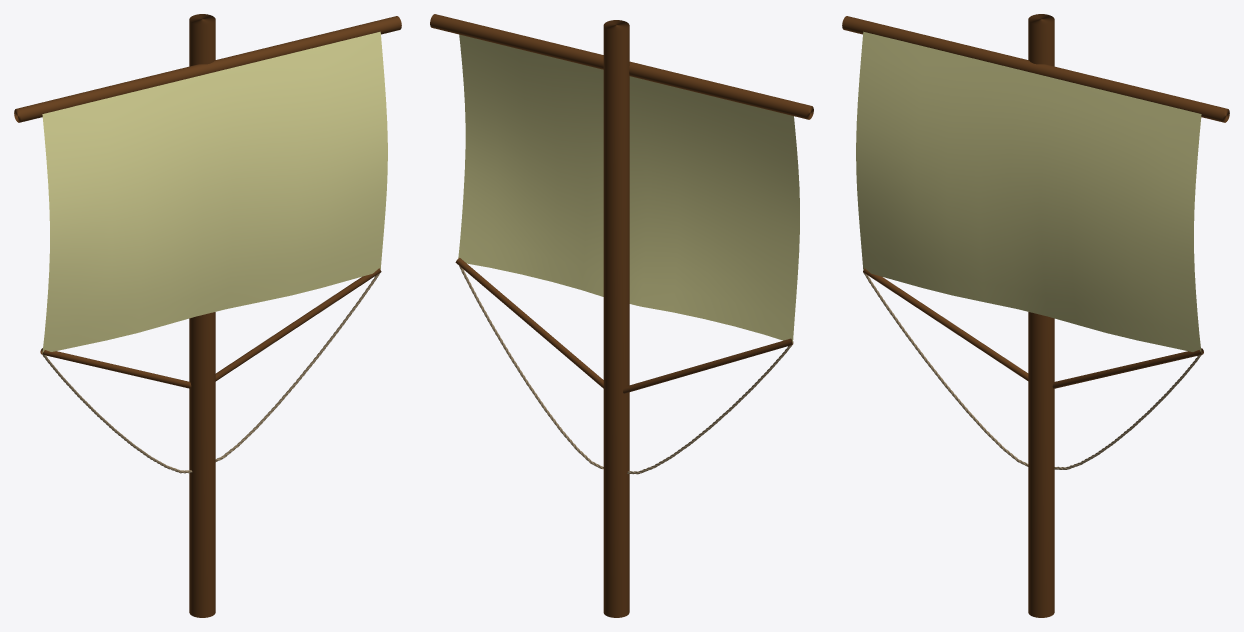
Rendered from Mast and Sail Joined.fbx.
3 views of the same model, side by side, from view 1: azimuth 30°, elevation 25°; view 2: azimuth 150°, elevation 25°; view 3: azimuth 330°, elevation 25° (orthographic).
Parts seen in each view (by area): view 1: Plane, Cylinder, Cylinder.001, Cylinder.002, Cylinder.003, Circle.002, Circle.001; view 2: Plane, Cylinder, Cylinder.001, Cylinder.002, Cylinder.003, Circle.002, Circle.001; view 3: Plane, Cylinder, Cylinder.001, Cylinder.003, Cylinder.002, Circle.001, Circle.002.
Part boxes in pixels (left/top/right/bottom): Plane: left=42, top=31, right=387, bottom=353; Cylinder: left=189, top=14, right=215, bottom=617; Cylinder.001: left=14, top=16, right=401, bottom=122; Cylinder.002: left=215, top=268, right=381, bottom=381; Cylinder.003: left=40, top=348, right=191, bottom=388; Circle.002: left=215, top=272, right=380, bottom=461; Circle.001: left=42, top=354, right=192, bottom=473; Plane: left=458, top=34, right=799, bottom=343; Cylinder: left=603, top=20, right=629, bottom=617; Cylinder.001: left=430, top=14, right=813, bottom=119; Cylinder.002: left=455, top=258, right=603, bottom=388; Cylinder.003: left=623, top=338, right=793, bottom=393; Circle.002: left=459, top=266, right=603, bottom=469; Circle.001: left=627, top=345, right=792, bottom=474; Plane: left=856, top=31, right=1201, bottom=352; Cylinder: left=1028, top=14, right=1054, bottom=617; Cylinder.001: left=842, top=16, right=1229, bottom=122; Cylinder.003: left=863, top=268, right=1028, bottom=380; Cylinder.002: left=1052, top=348, right=1203, bottom=388; Circle.001: left=863, top=272, right=1028, bottom=466; Circle.002: left=1054, top=353, right=1202, bottom=469.
Bounding box in the file's own units: 291 × 433 × 32.07.
